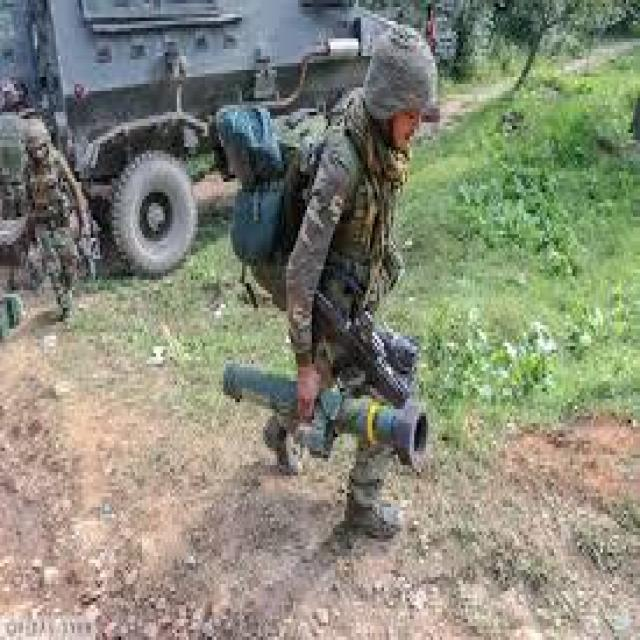bazooka: (218, 354, 436, 474)
